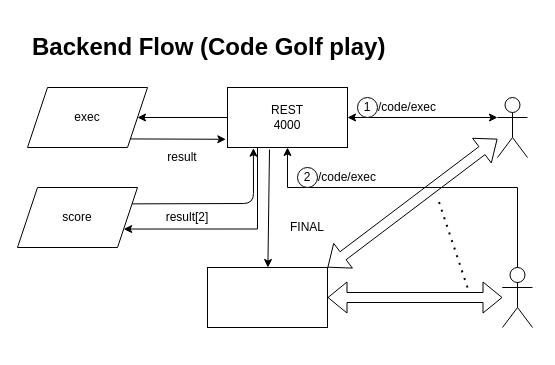
Some shapes in this 555 by 365 pixel diagram are drawn without their labels. The centre of each missing label's shape, as x and y in pixels:
"Player1" belongs at (512,127).
"Player2" belongs at (517,297).
"Socket 4050" belongs at (267,297).
